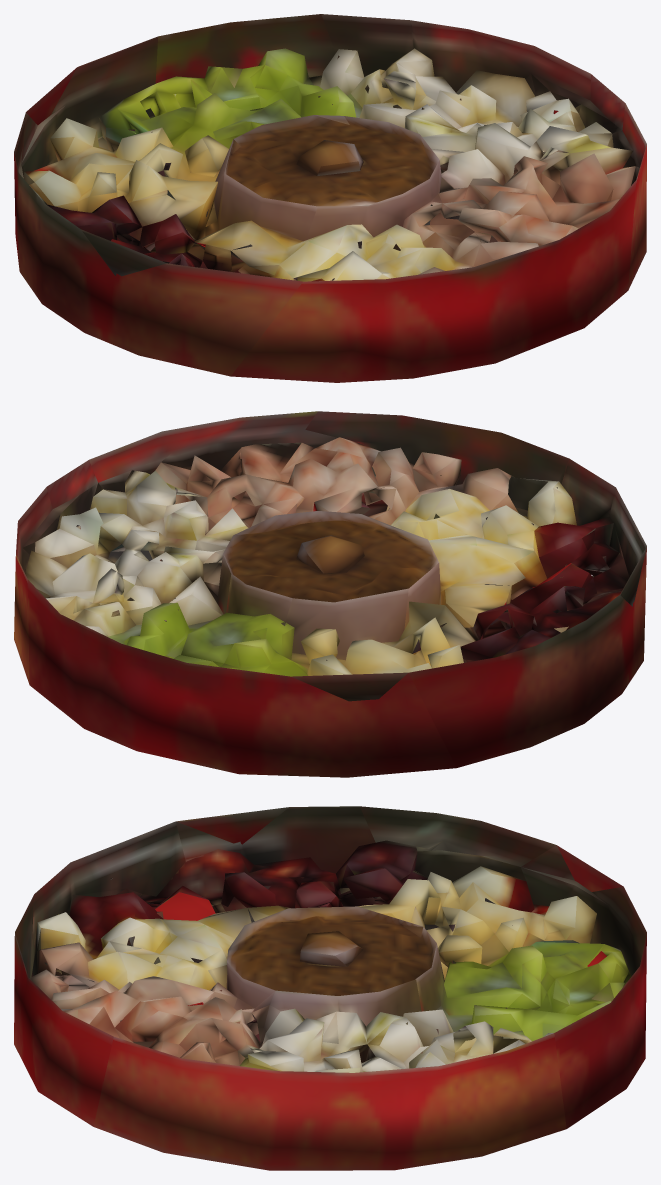
The model's file is BanhKeoTet.fbx.
The picture shows the model from 3 angles, top to bottom: view 1: azimuth 30°, elevation 25°; view 2: azimuth 150°, elevation 25°; view 3: azimuth 270°, elevation 25°; orthographic projection.
Parts seen in each view (by area): view 1: BanhKeoTet; view 2: BanhKeoTet; view 3: BanhKeoTet.
Boxes of the visible parts, box(x1,y1,x2,y2) form: BanhKeoTet: box(14, 14, 646, 382); BanhKeoTet: box(14, 411, 646, 777); BanhKeoTet: box(14, 806, 646, 1170).
Bounding box in the file's own units: 100 × 99.6 × 18.96.
Materials: 1 (1 with a texture image).
